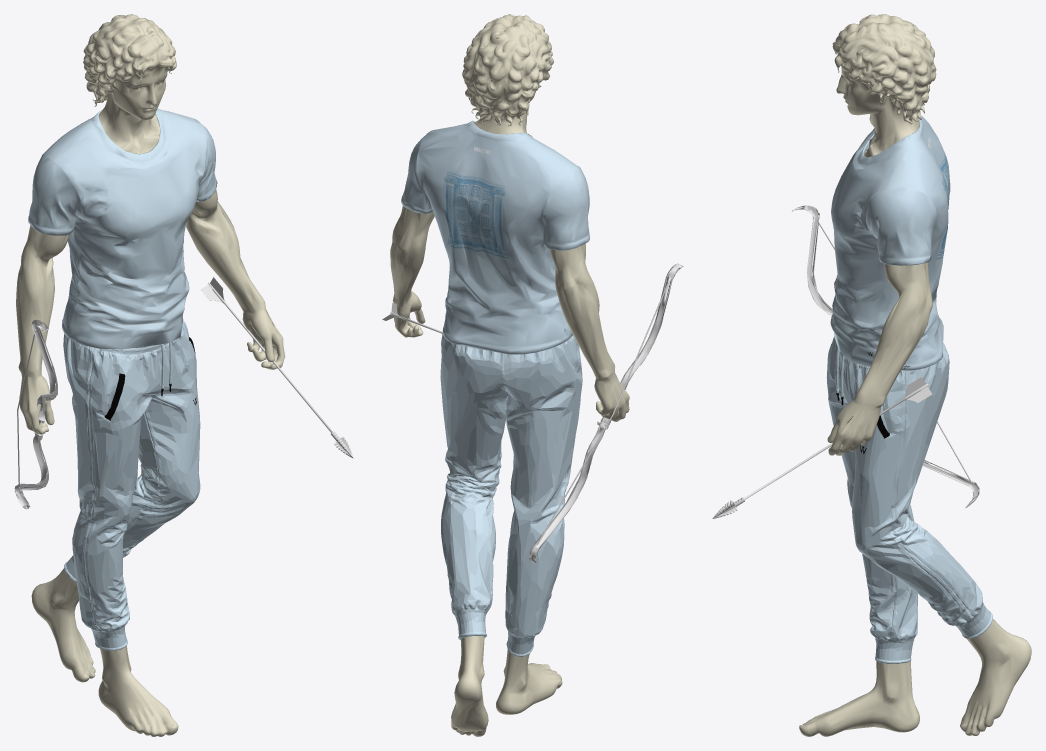
The model's file is light-blue.glb.
3 views of the same model, side by side, from view 1: azimuth 30°, elevation 25°; view 2: azimuth 150°, elevation 25°; view 3: azimuth 270°, elevation 25° (orthographic). The views are drawn at different scales.
Visible parts, largest first — view 1: T-Shirt, Trouser, Body, Cylinder, T-Shirt.001, Arrow; view 2: Trouser, T-Shirt, Body, Cylinder, T-Shirt.001, T-Shirt.002; view 3: Body, Trouser, T-Shirt, T-Shirt.002, Cylinder, Arrow.
Boxes of the visible parts, x1=… form: T-Shirt: x1=33, y1=108, x2=215, y2=349; Trouser: x1=63, y1=320, x2=200, y2=650; Body: x1=16, y1=14, x2=285, y2=736; Cylinder: x1=14, y1=319, x2=57, y2=509; T-Shirt.001: x1=28, y1=179, x2=66, y2=235; Arrow: x1=200, y1=277, x2=353, y2=458; Trouser: x1=440, y1=334, x2=582, y2=656; T-Shirt: x1=409, y1=120, x2=588, y2=354; Body: x1=390, y1=14, x2=629, y2=736; Cylinder: x1=529, y1=263, x2=683, y2=563; T-Shirt.001: x1=550, y1=191, x2=589, y2=250; T-Shirt.002: x1=401, y1=163, x2=423, y2=213; Body: x1=799, y1=14, x2=1031, y2=736; Trouser: x1=826, y1=336, x2=992, y2=663; T-Shirt: x1=830, y1=115, x2=950, y2=370; T-Shirt.002: x1=868, y1=216, x2=936, y2=265; Cylinder: x1=792, y1=205, x2=979, y2=508; Arrow: x1=712, y1=377, x2=932, y2=518.
Size of the model in its own units: 0.7091 by 1.71 by 0.6899.
8 materials, 6 textured.
